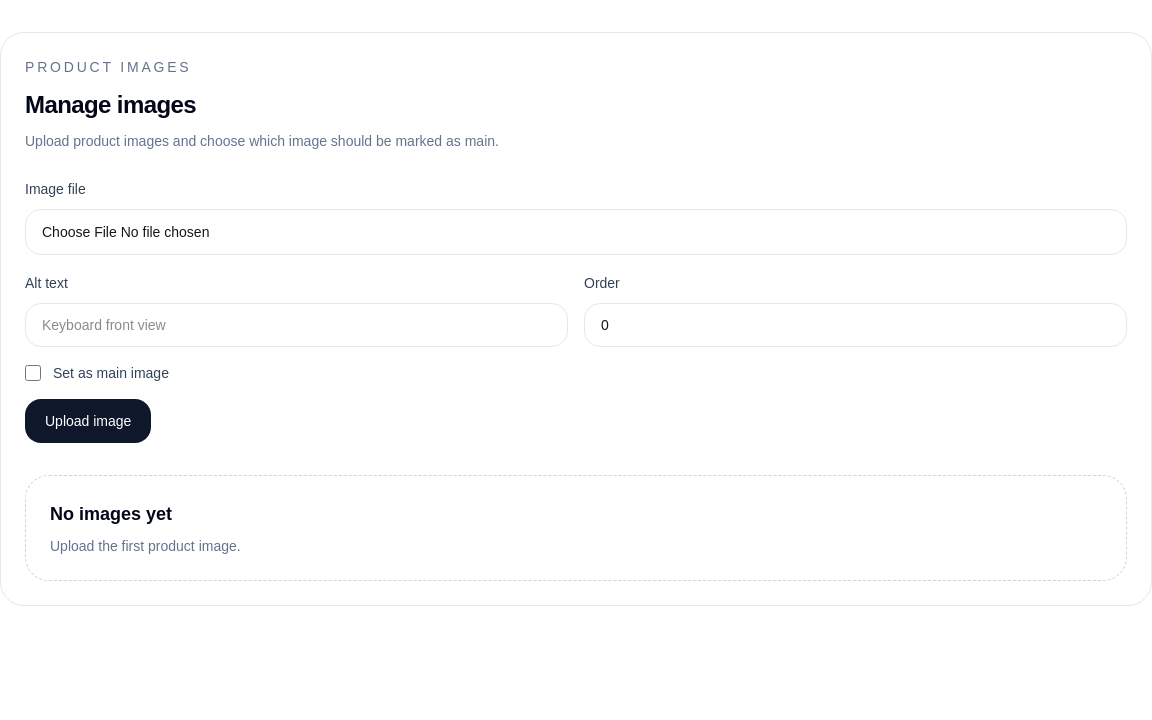
SellerProductImagesManager › does not upload without selected file
Click the button "Upload image" at (88, 421), box [25,399,151,443]
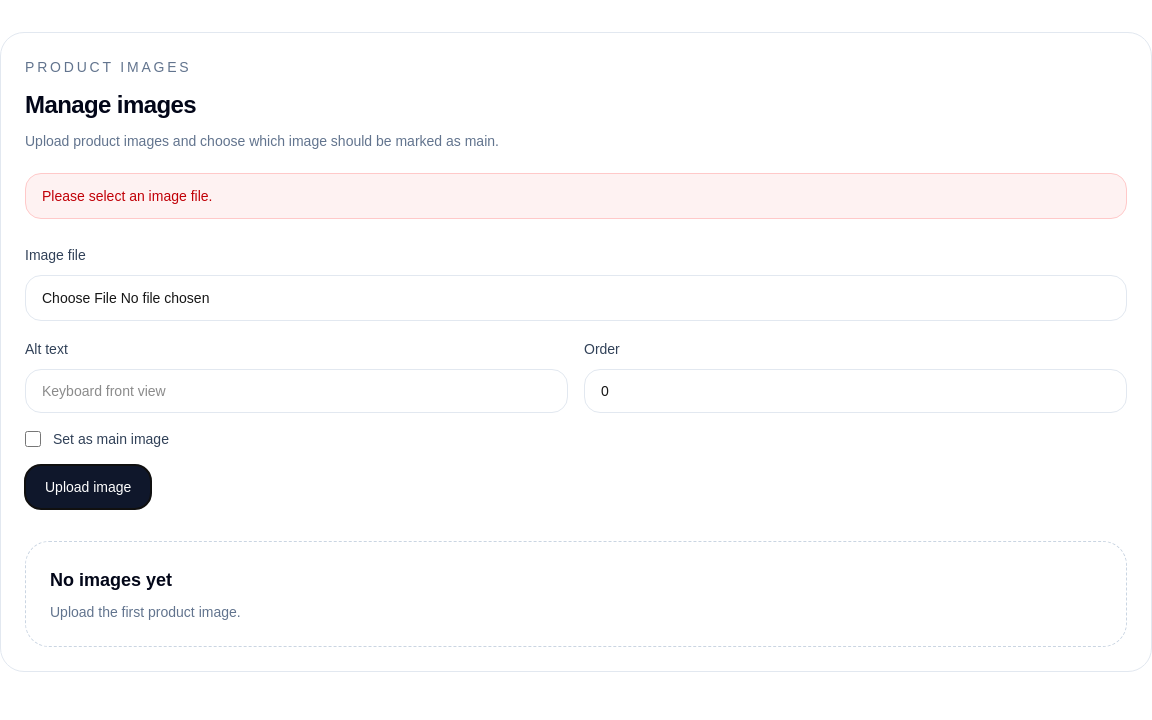
Now the text "Please select an image file." is shown, box [25,173,1127,219]
